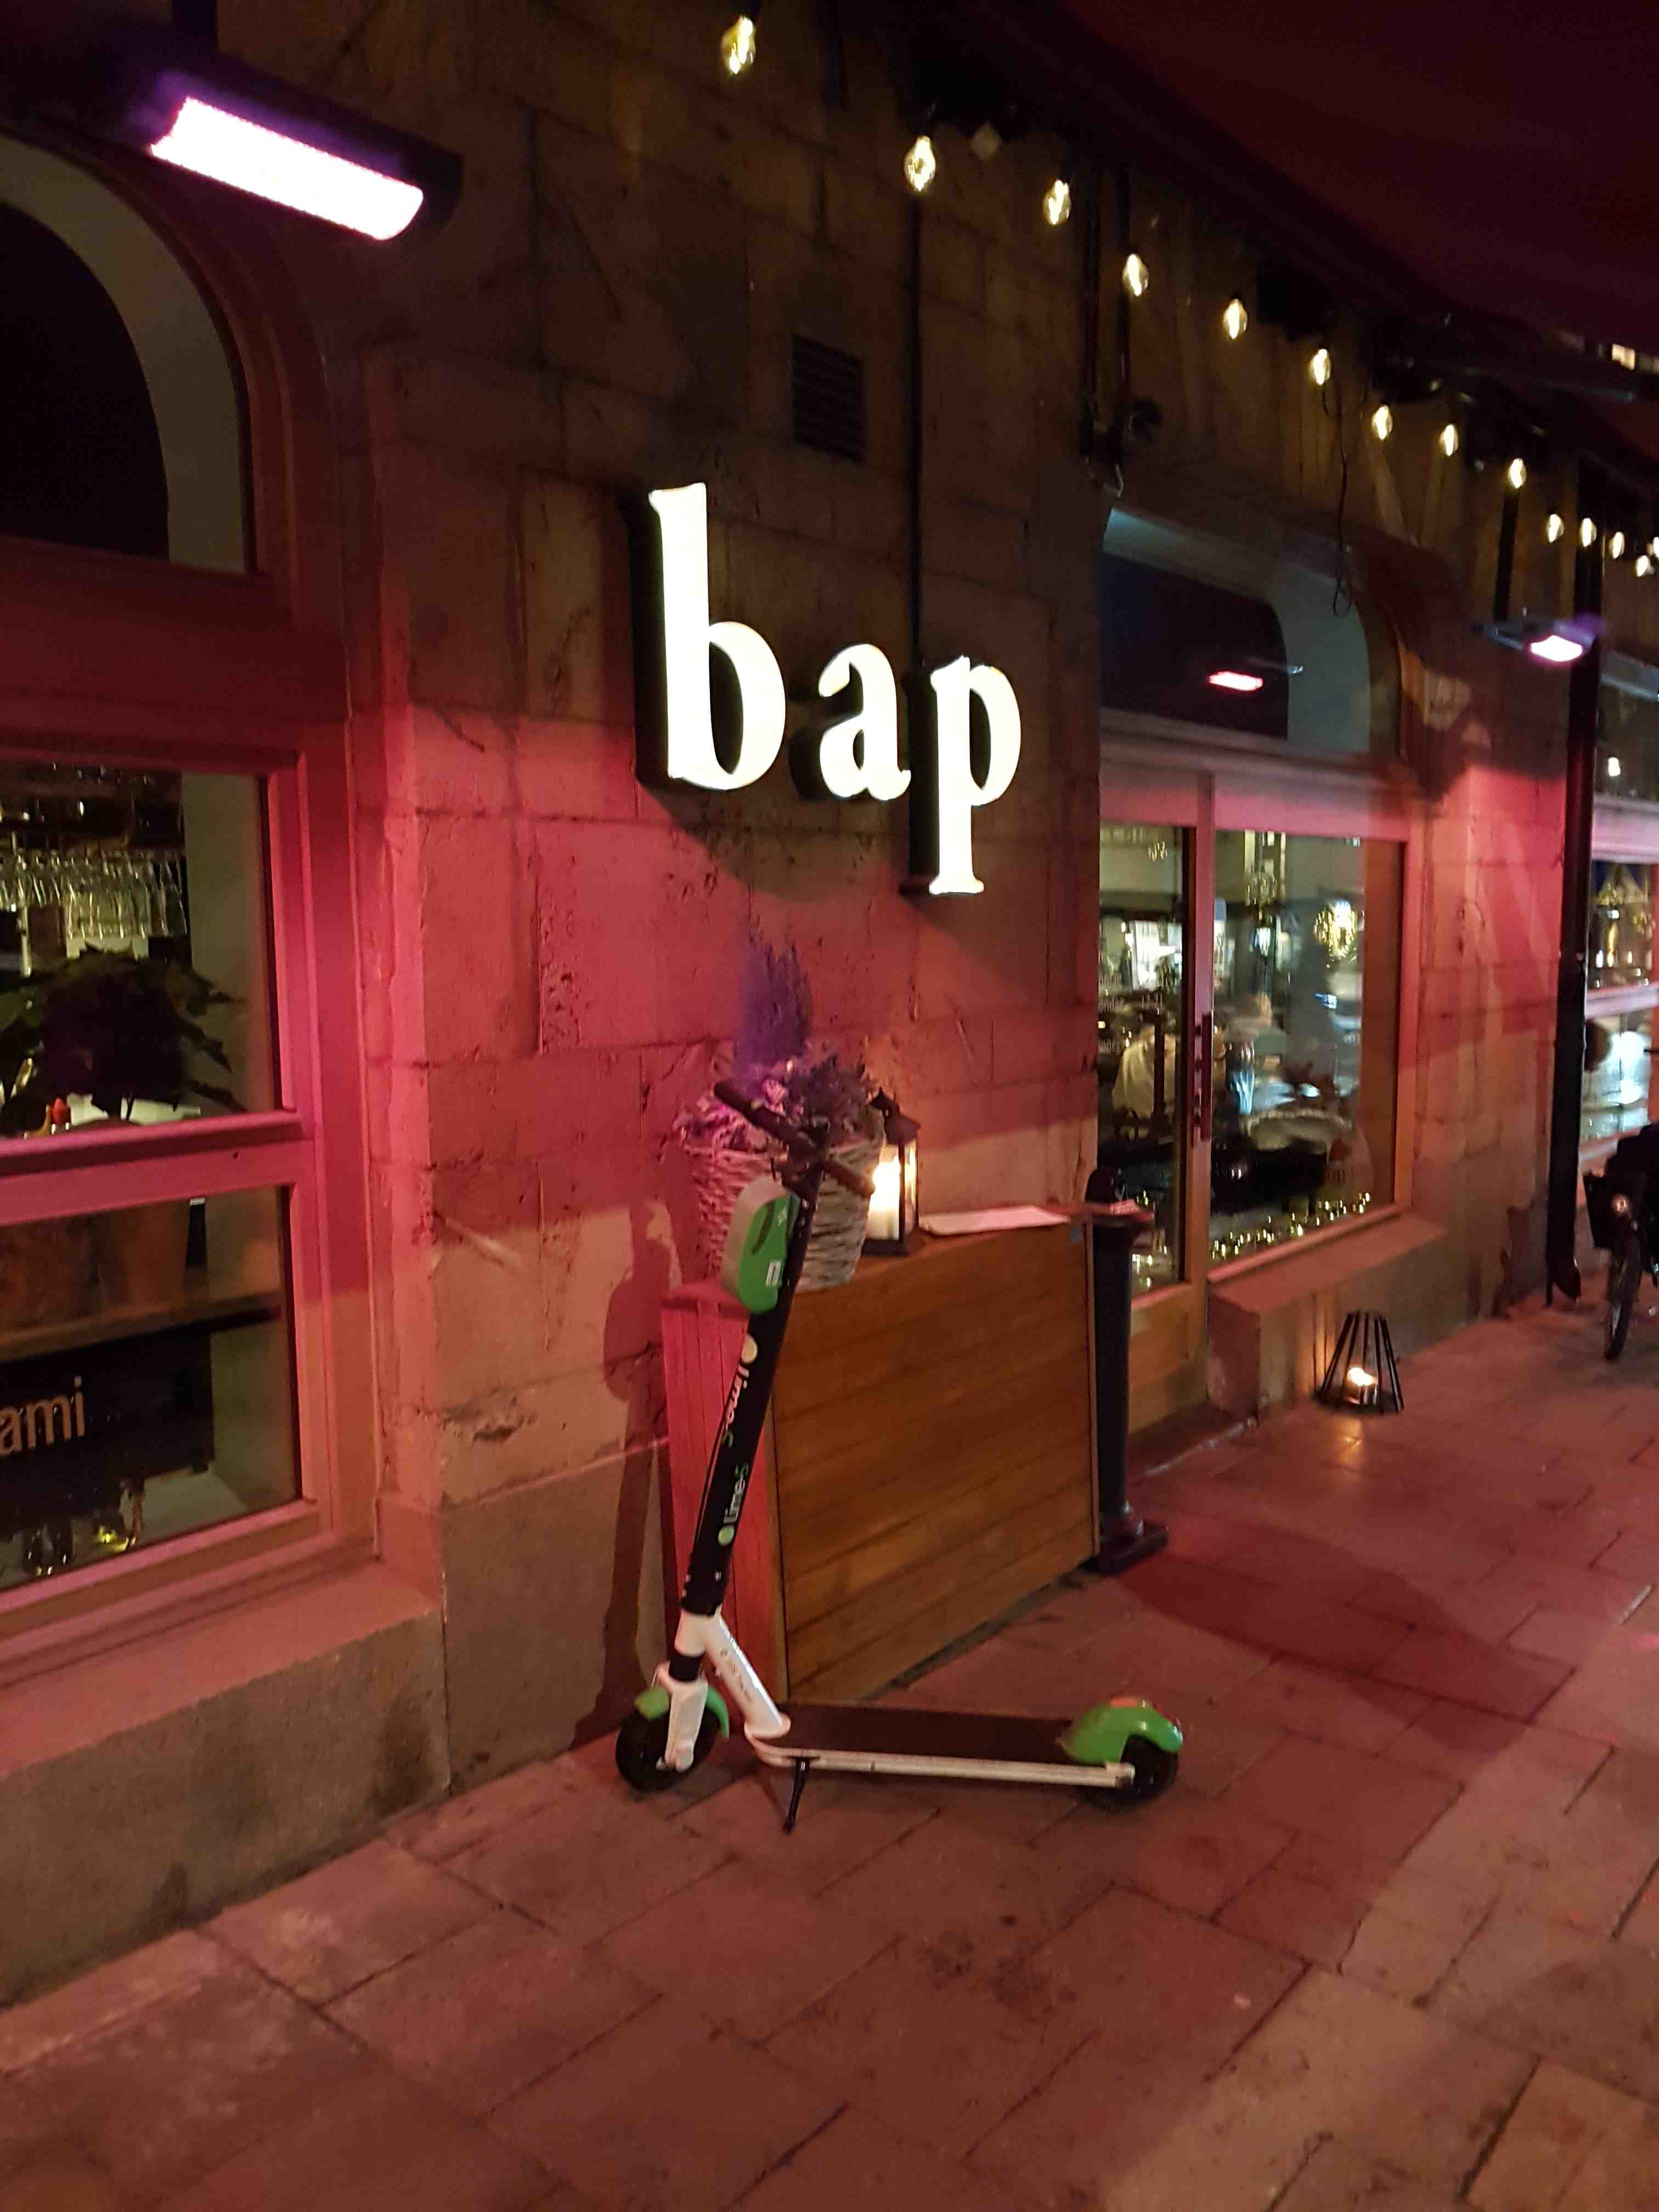scooter: (596, 1052, 1204, 1831)
